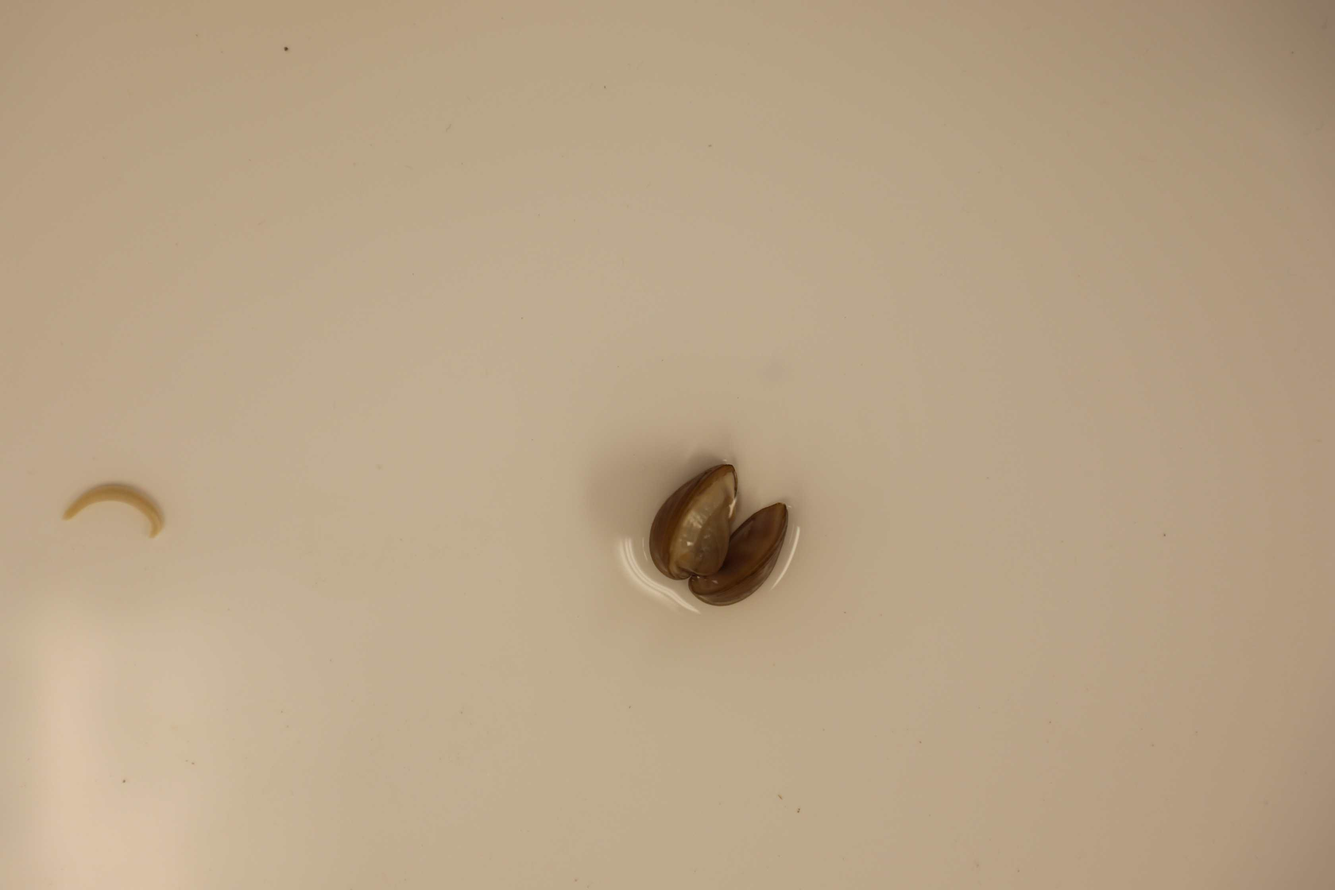Cadisfly: (66, 476, 159, 542)
Other: (639, 466, 788, 606)
